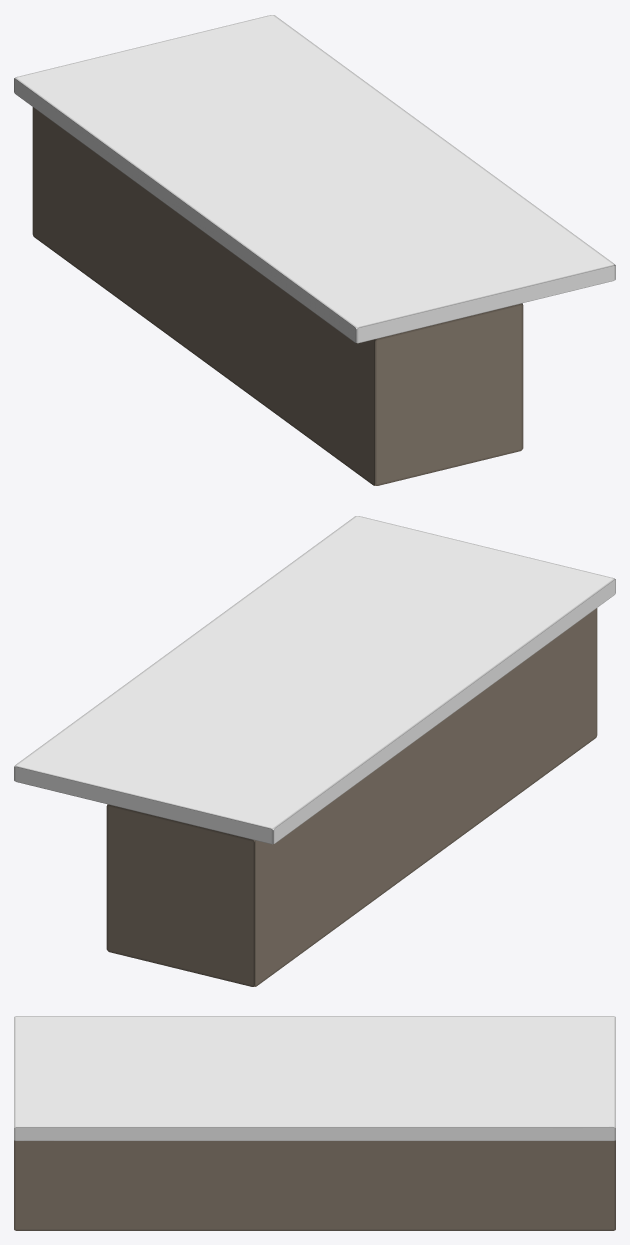
File: CounterPlain.fbx
3 views of the same model, one above another, from view 1: azimuth 30°, elevation 25°; view 2: azimuth 150°, elevation 25°; view 3: azimuth 270°, elevation 25° (orthographic). The views are drawn at different scales.
Visible parts, largest first — view 1: cuboid_1, cuboid; view 2: cuboid_1, cuboid; view 3: cuboid_1, cuboid.
Part boxes in pixels (box(x1,y1,x2,y2)): cuboid_1: box(14, 15, 615, 343); cuboid: box(32, 107, 523, 485); cuboid_1: box(14, 516, 615, 844); cuboid: box(106, 608, 597, 986); cuboid_1: box(14, 1016, 615, 1140); cuboid: box(14, 1140, 615, 1230).
Size of the model in its own units: 43.75 by 26.25 by 100.
Materials: 1 (1 with a texture image).
